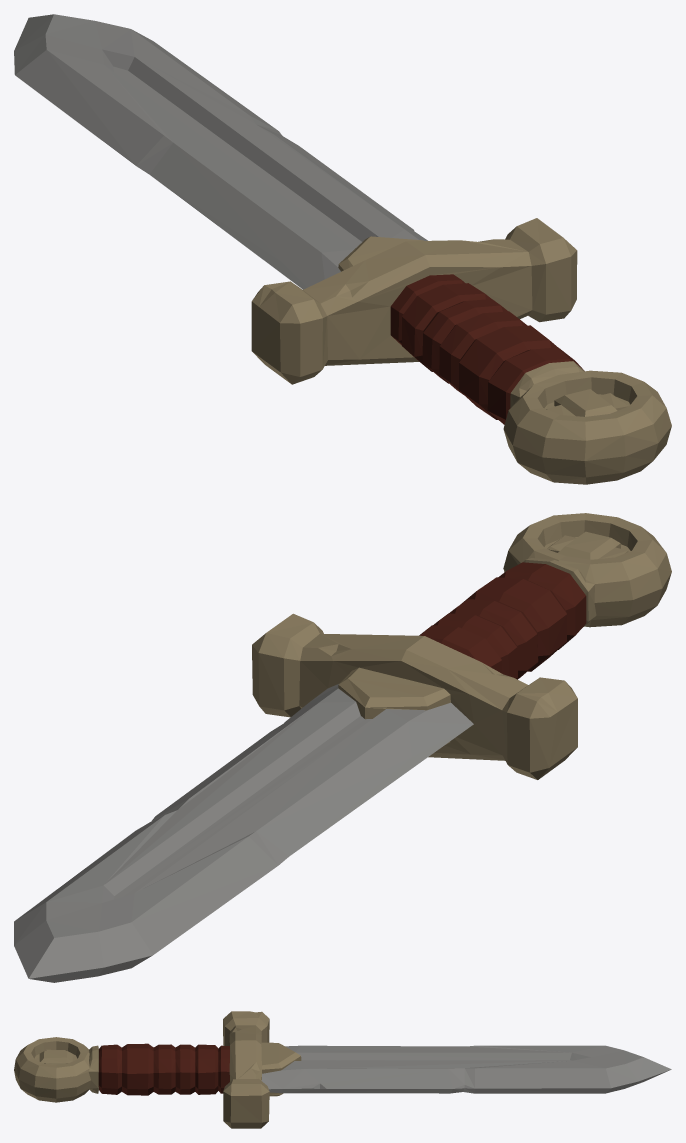
Rendered from KnightShortsword.fbx.
3 renders of one model, top to bottom at view 1: azimuth 30°, elevation 25°; view 2: azimuth 150°, elevation 25°; view 3: azimuth 270°, elevation 25°, orthographic. The views are drawn at different scales.
Parts seen in each view (by area): view 1: KnightShortsword; view 2: KnightShortsword; view 3: KnightShortsword.
Part boxes in pixels (<box>): KnightShortsword: <box>14,14,671,484</box>; KnightShortsword: <box>14,513,671,982</box>; KnightShortsword: <box>14,1011,671,1128</box>.
Size of the model in its own units: 0.2584 by 0.8961 by 0.0881.
